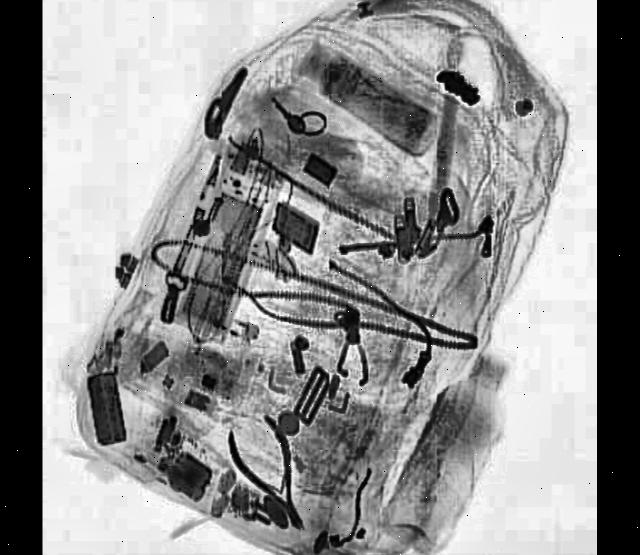Pliers: (224, 402, 325, 547)
